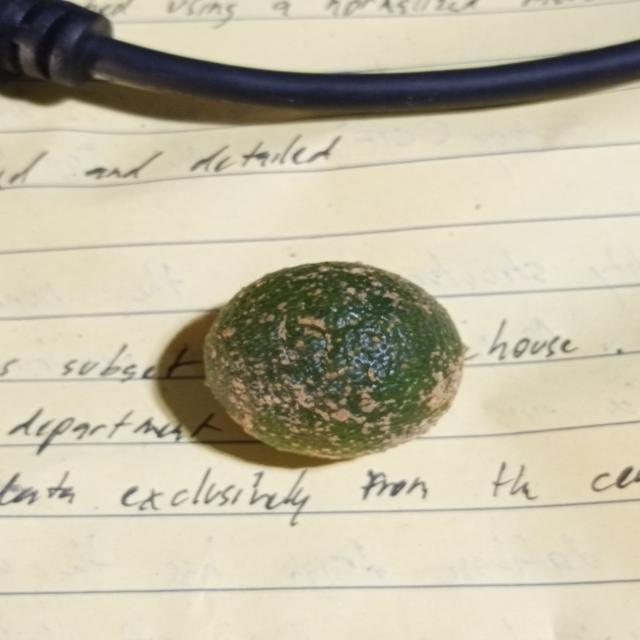scab: (196, 254, 470, 464)
